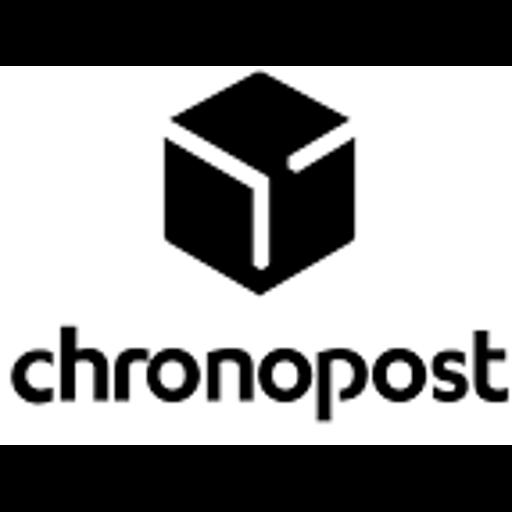Chronopost International: (0, 66, 512, 445)
